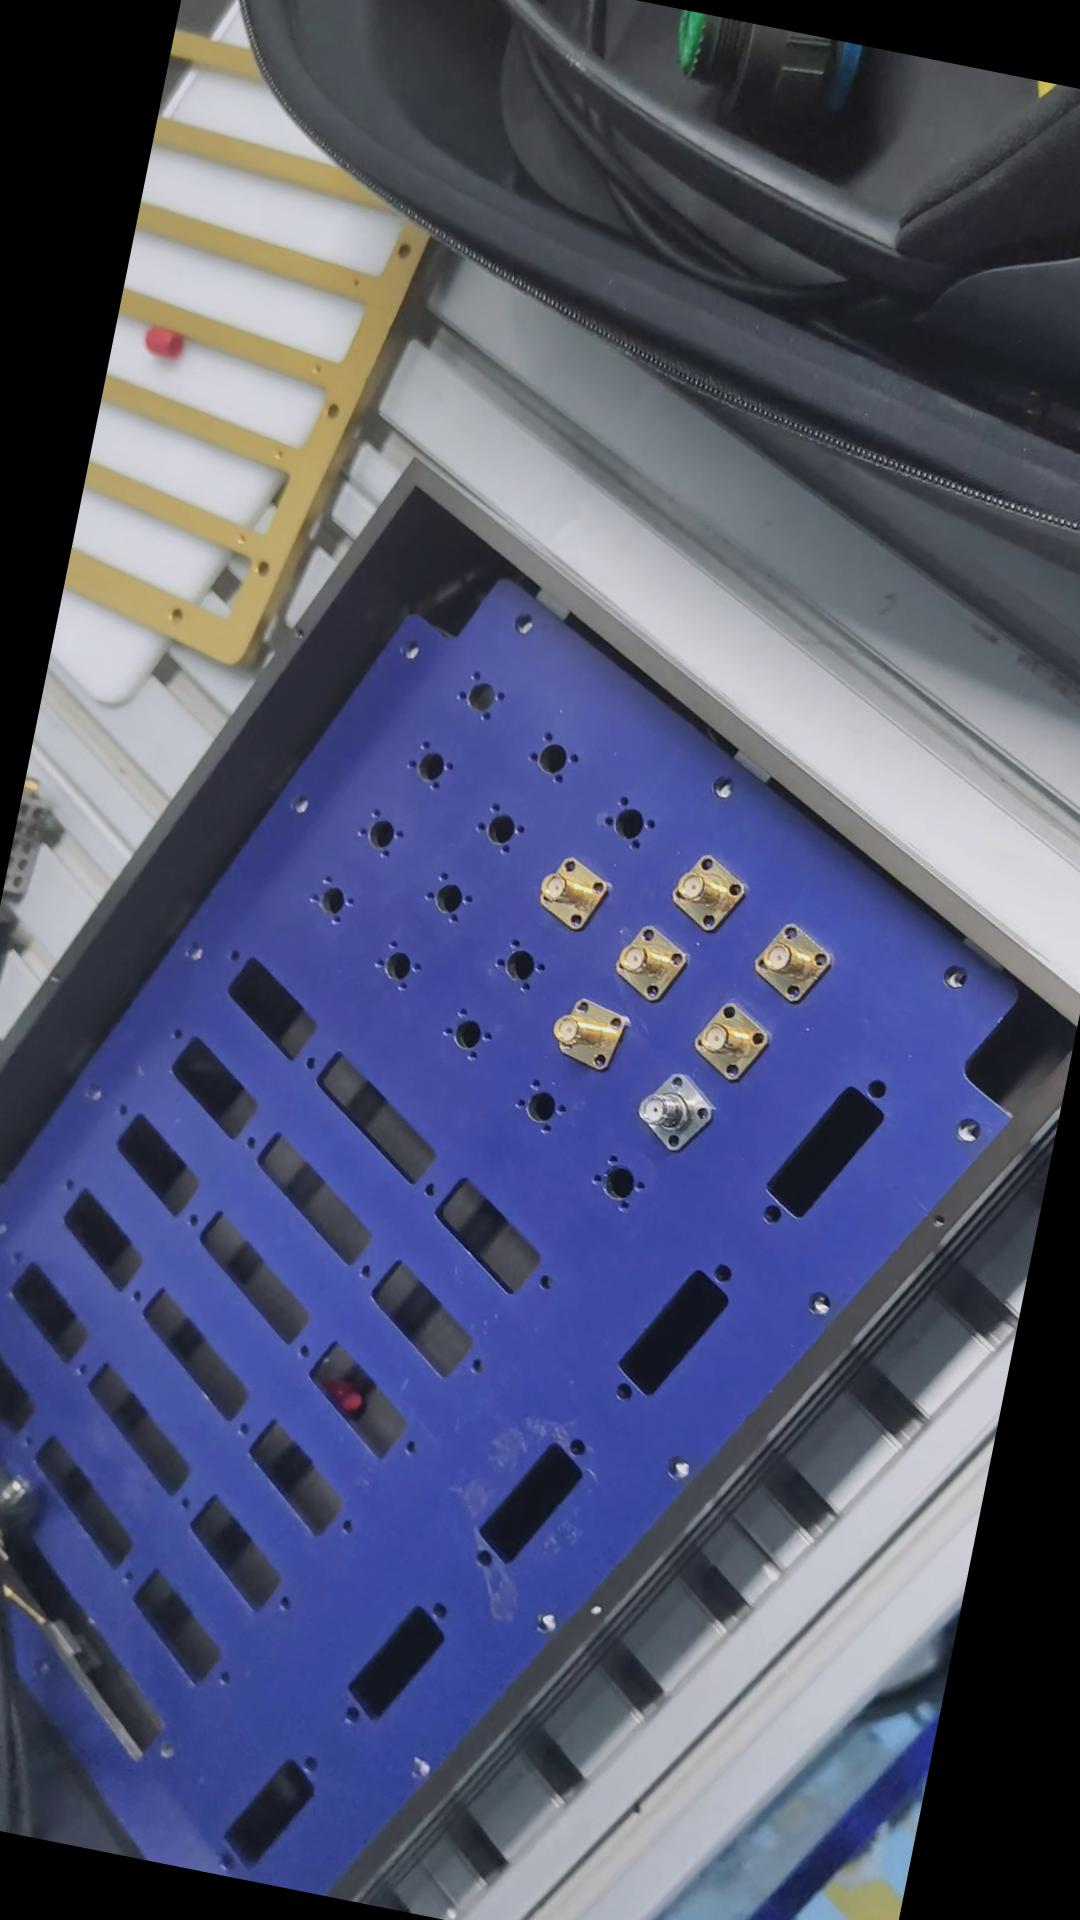SMA: (625, 1062, 721, 1156), (603, 916, 699, 1009), (525, 848, 618, 940), (742, 919, 837, 1006), (684, 996, 777, 1084), (659, 844, 748, 935), (539, 986, 628, 1076)
